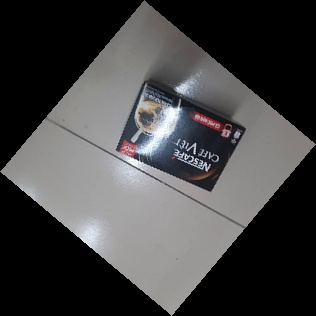CF Viet: (114, 78, 246, 193)
